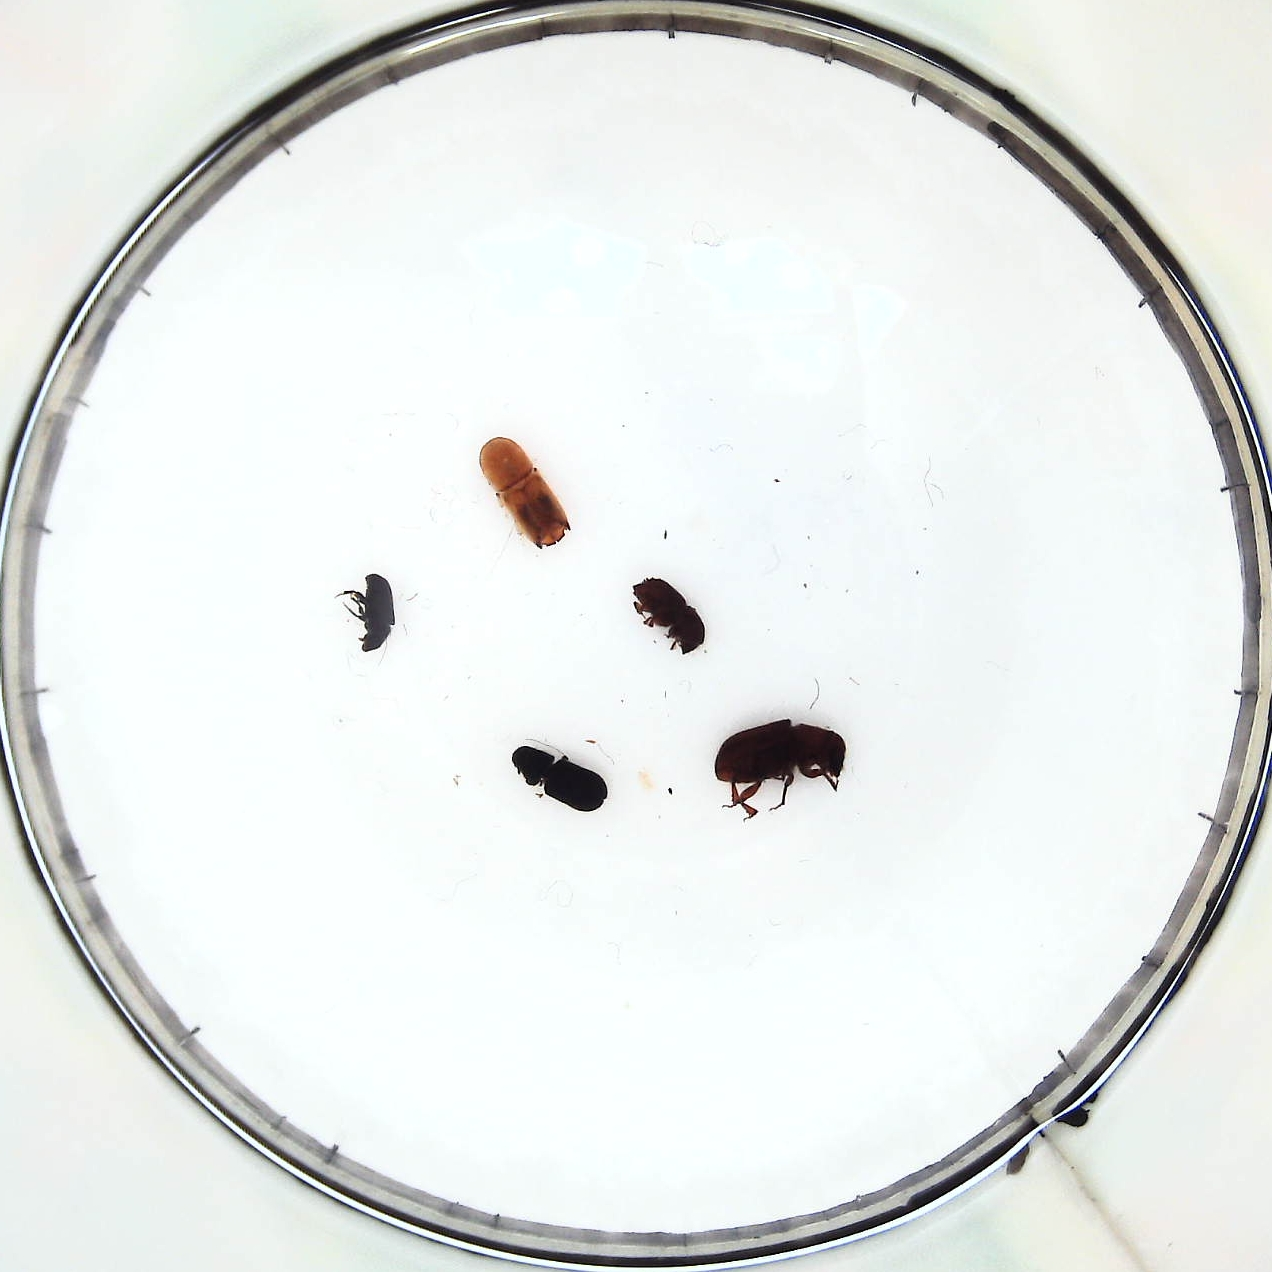Boerner: (476, 438, 571, 549)
Leconte: (716, 720, 849, 807)
Linnaeus: (631, 575, 709, 653)
armandi: (507, 743, 607, 814)
coleoptera: (355, 572, 398, 656)
